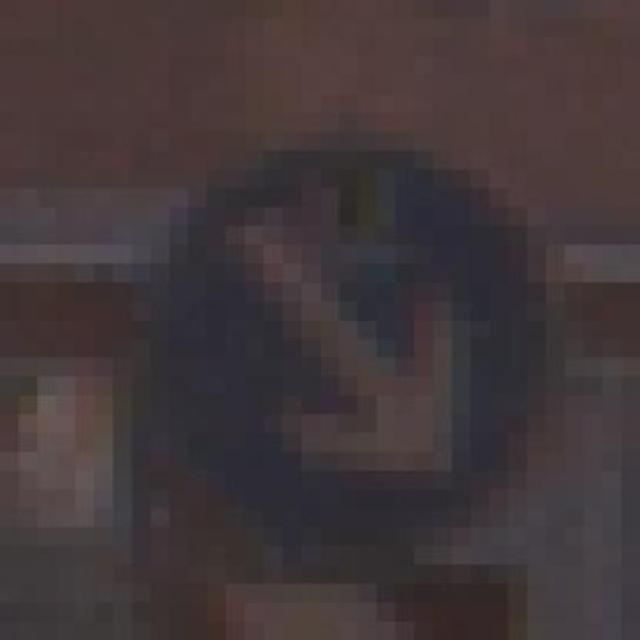Keep-Right: (94, 113, 583, 584)
